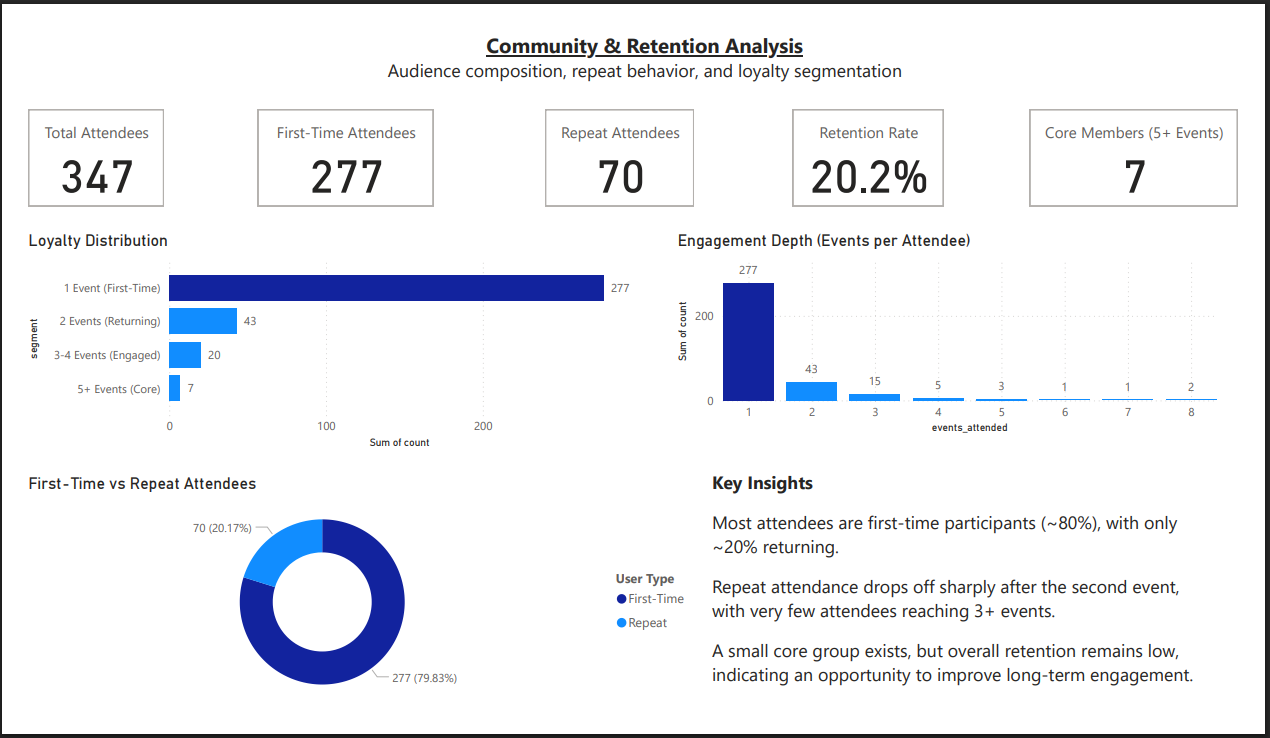

This screenshot's page, from the dashboard's own definition file:
{"tool":"powerbi","page":{"name":"Retention","canvas":[1280,720],"ordinal":2},"visuals":[{"type":"textbox","box":[272.7,0,759.1,81.8],"z":0},{"type":"textbox","box":[347,281.8,175.8,189.4],"z":1000},{"type":"cardVisual","fields":{"Data":["events_attended_distribution.Total Attendees"]},"box":[0,82.3,151.9,111.4],"z":2000},{"type":"cardVisual","fields":{"Data":["events_attended_distribution.Repeat Attendees"]},"box":[543,82.3,165.8,111.4],"z":3000},{"type":"cardVisual","fields":{"Data":["final_metrics.Retention Rate"]},"box":[802.5,82.3,168.4,111.4],"z":4000},{"type":"cardVisual","fields":{"Data":["final_metrics.Core Members"]},"box":[1051.9,82.3,227.8,111.4],"z":5000},{"type":"cardVisual","fields":{"Data":["final_metrics.First-Time Attendees"]},"box":[240.5,82.3,194.9,111.4],"z":6000},{"type":"barChart","title":"Loyalty Distribution","fields":{"Category":["loyalty_distribution.segment"],"Y":["Sum(loyalty_distribution.count)"]},"box":[0,215.5,652.1,232.4],"z":7000},{"type":"columnChart","title":"Engagement Depth (Events per Attendee)","fields":{"Category":["events_attended_distribution.events_attended"],"Y":["Sum(events_attended_distribution.count)"]},"box":[682.3,215.2,575.9,217.7],"z":8000},{"type":"donutChart","title":"First-Time vs Repeat Attendees","fields":{"Y":["final_metrics.Repeat vs First"],"Category":["loyalty_distribution.User Type"]},"box":[0,470.4,708.5,249.3],"z":9000},{"type":"textbox","box":[717.7,460.8,540.5,259.5],"z":10000}]}

Visuals, with their boxes on the page's 1280x720 design canvas (x1, y1, x2, y2). These are canvas units, not pixel positions in the 1270x738 screenshot, which may show the page scaled, cropped or inside an application window:
textbox: x1=273, y1=0, x2=1032, y2=82
textbox: x1=347, y1=282, x2=523, y2=471
cardVisual - events_attended_distribution.Total Attendees: x1=0, y1=82, x2=152, y2=194
cardVisual - events_attended_distribution.Repeat Attendees: x1=543, y1=82, x2=709, y2=194
cardVisual - final_metrics.Retention Rate: x1=802, y1=82, x2=971, y2=194
cardVisual - final_metrics.Core Members: x1=1052, y1=82, x2=1280, y2=194
cardVisual - final_metrics.First-Time Attendees: x1=240, y1=82, x2=435, y2=194
"Loyalty Distribution" barChart: x1=0, y1=216, x2=652, y2=448
"Engagement Depth (Events per Attendee)" columnChart: x1=682, y1=215, x2=1258, y2=433
"First-Time vs Repeat Attendees" donutChart: x1=0, y1=470, x2=708, y2=720
textbox: x1=718, y1=461, x2=1258, y2=720
